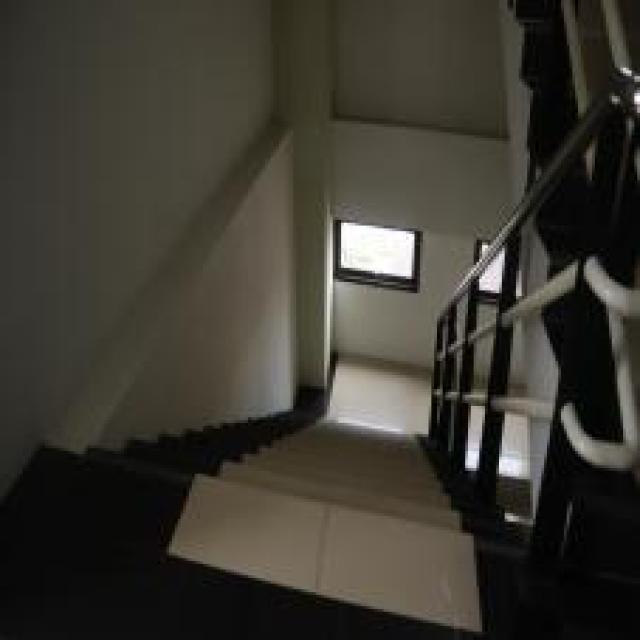downstair: (246, 438, 427, 582)
